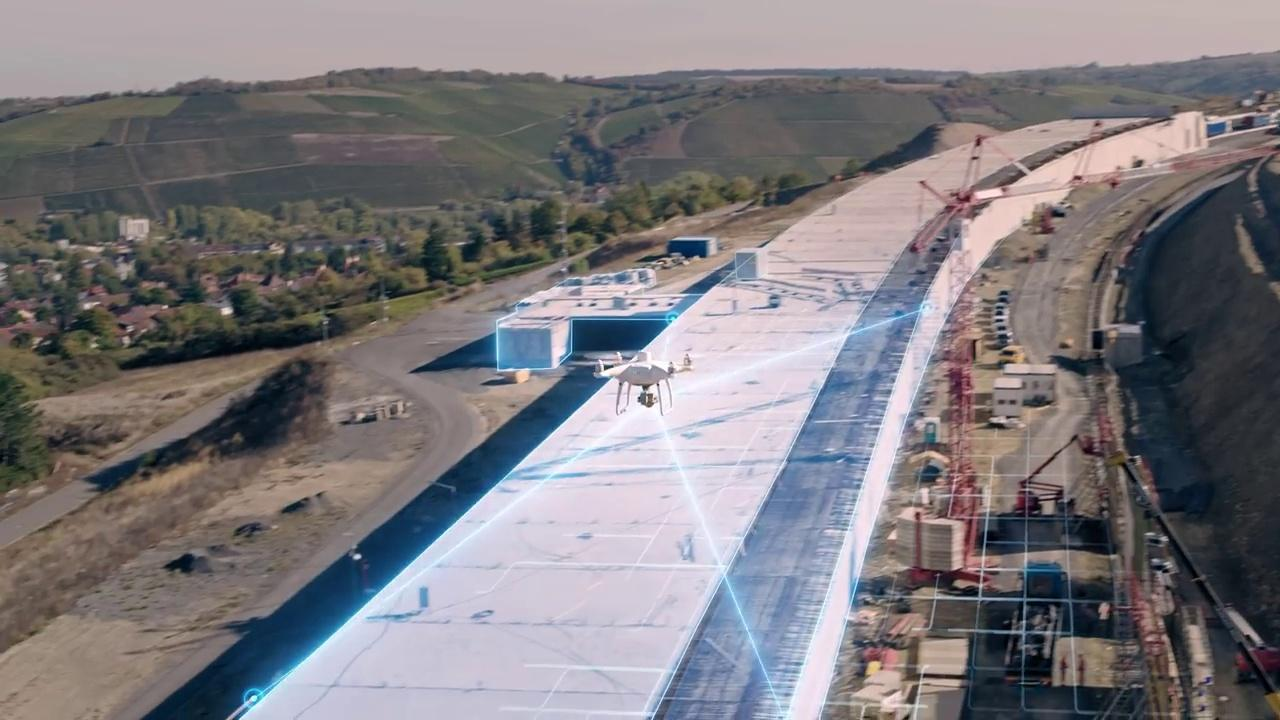drone: (591, 344, 699, 415)
